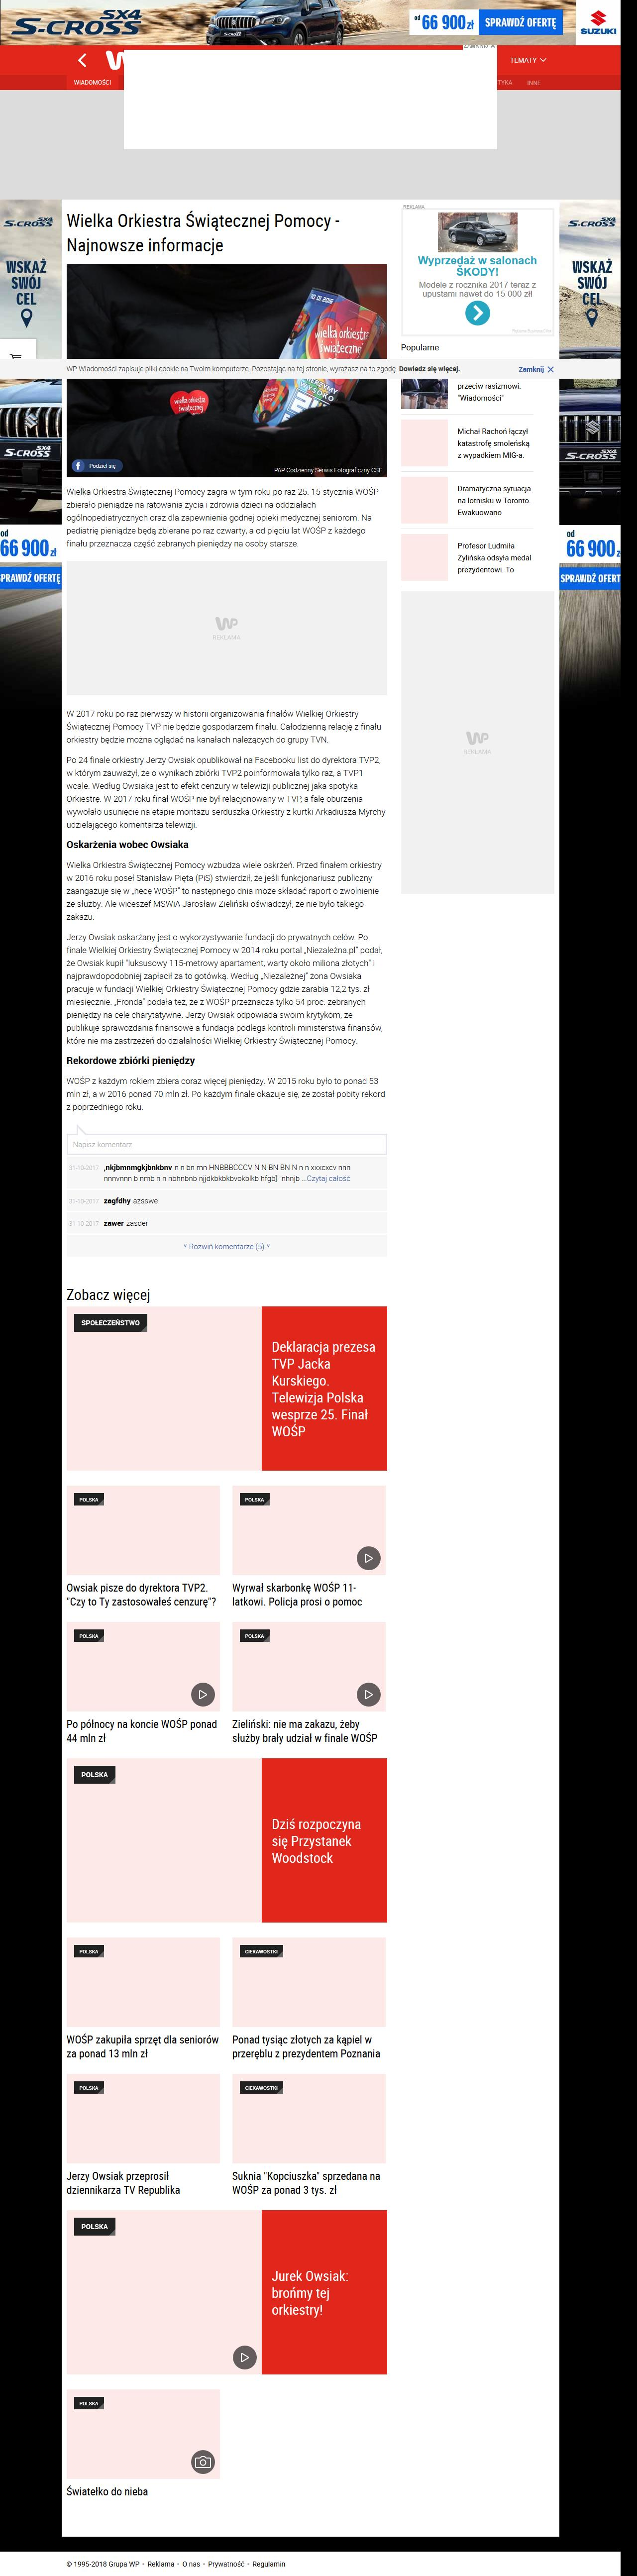title: (66, 212, 341, 256)
